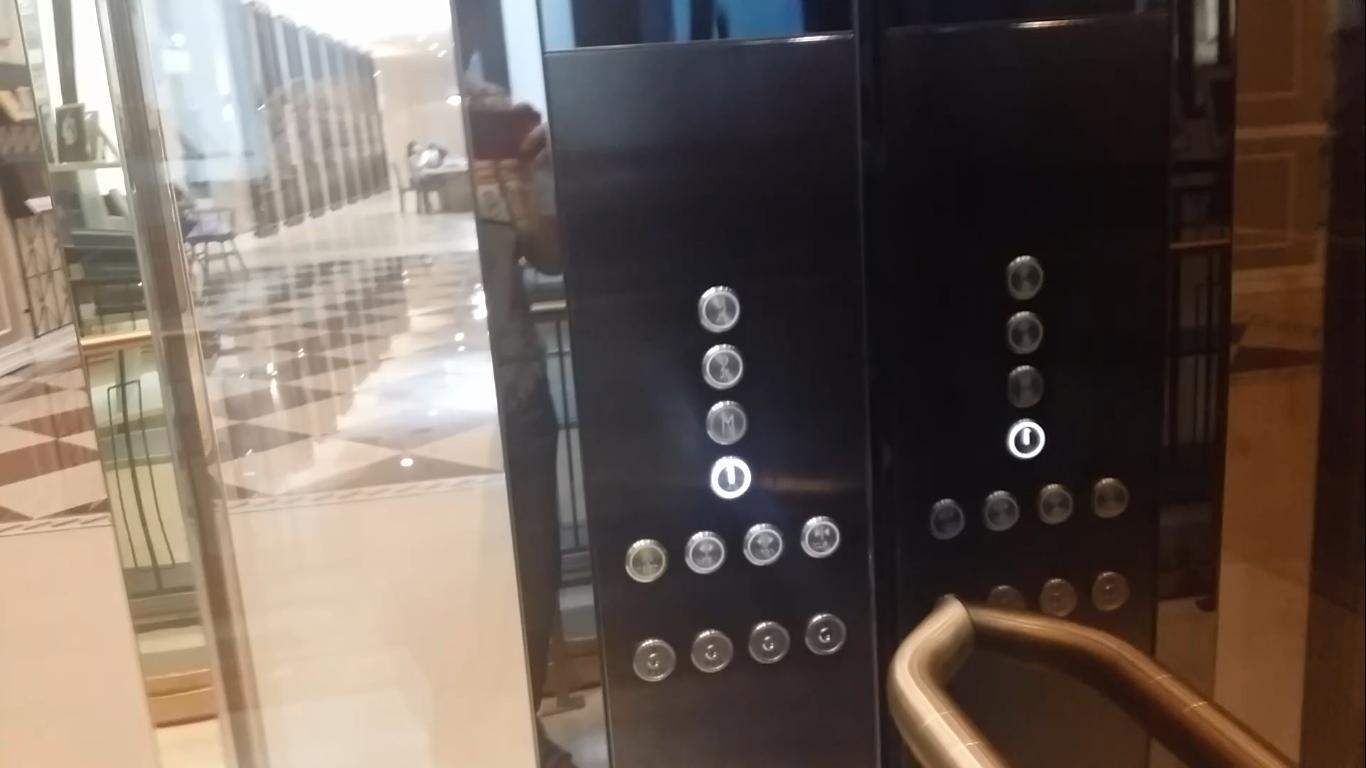1: (706, 453, 753, 502), (1004, 417, 1047, 460)
2: (702, 341, 745, 391)
M: (702, 399, 749, 448)
blur: (695, 282, 742, 333)
close: (796, 513, 843, 558)
empty: (1003, 253, 1045, 301), (1002, 308, 1044, 356), (1002, 362, 1044, 410), (925, 497, 968, 540), (979, 489, 1022, 532), (1033, 482, 1076, 525), (1085, 476, 1128, 519), (1089, 570, 1130, 613), (1037, 576, 1078, 619)
keyhole: (802, 612, 849, 657), (744, 618, 791, 663), (687, 627, 734, 672), (631, 638, 678, 683)
open: (681, 531, 728, 576), (739, 522, 786, 567)
unknown: (623, 538, 670, 583)
